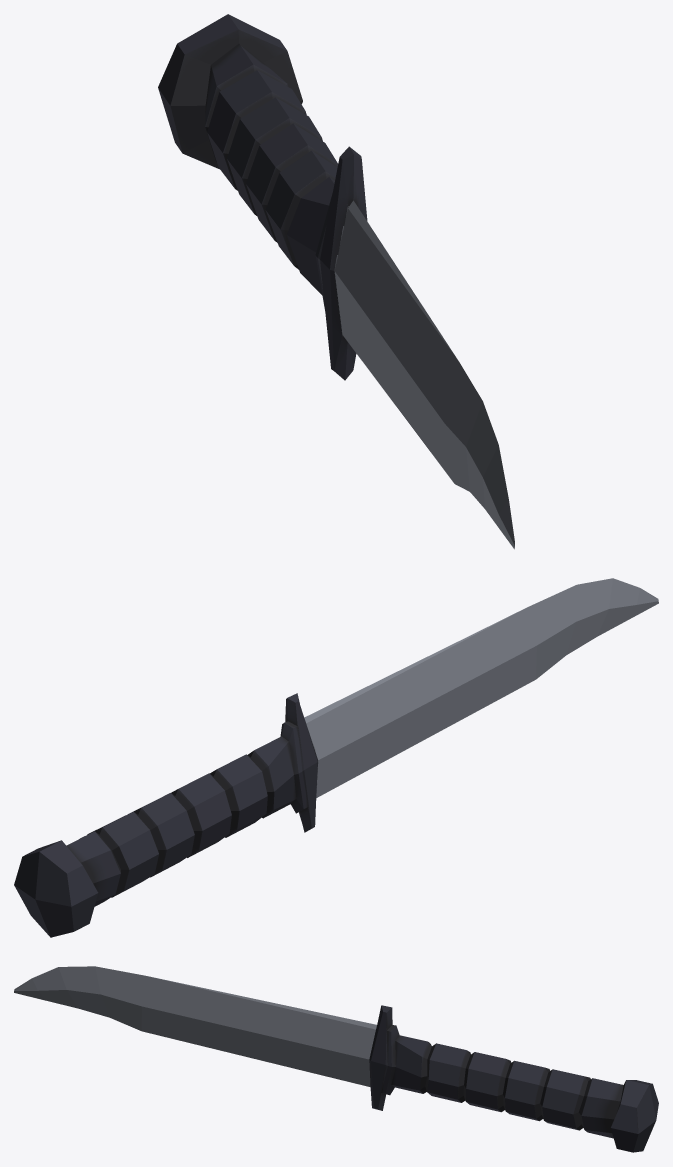
File: agent.gltf
3 renders of one model, top to bottom at view 1: azimuth 30°, elevation 25°; view 2: azimuth 150°, elevation 25°; view 3: azimuth 270°, elevation 25°, orthographic. The views are drawn at different scales.
Visible parts, largest first — view 1: knife; view 2: knife; view 3: knife.
Boxes of the visible parts, x1,y1,x2,y2 form: knife: (158,14,514,549); knife: (14,578,658,937); knife: (14,966,658,1152).
Size of the model in its own units: 0.0692 by 0.038 by 0.1934.
Materials: 1 (1 with a texture image).
